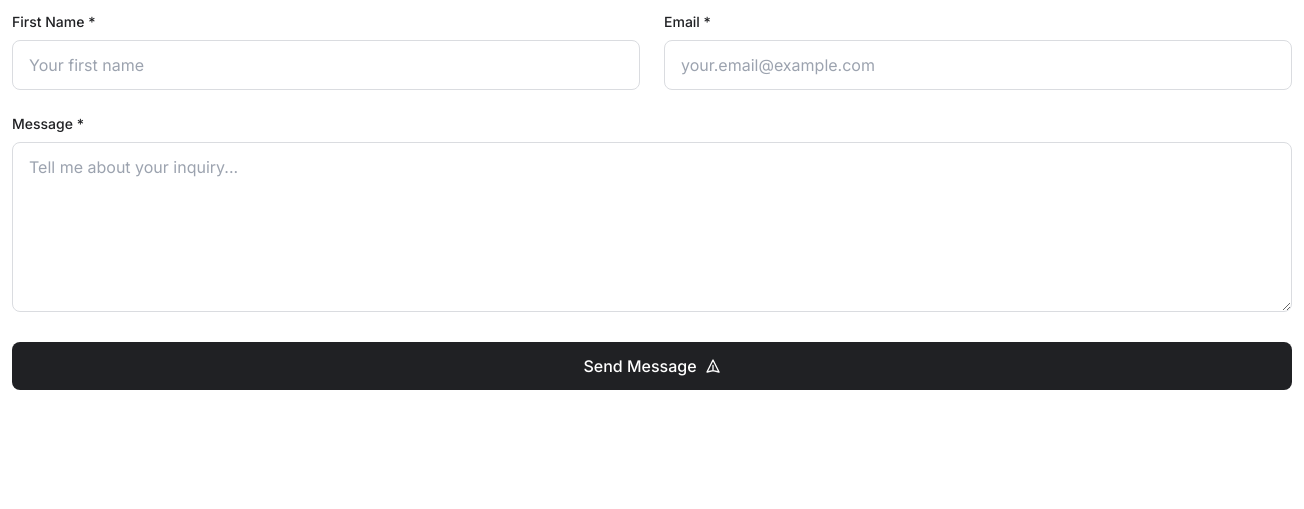
Test: ContactForm › Form Submission › submits form with valid data
The width and height of the screenshot is (1304, 509).
# Fill out form
In the field labelled "First Name *": point(326, 65) left=12, top=40, right=640, bottom=90, type "John"
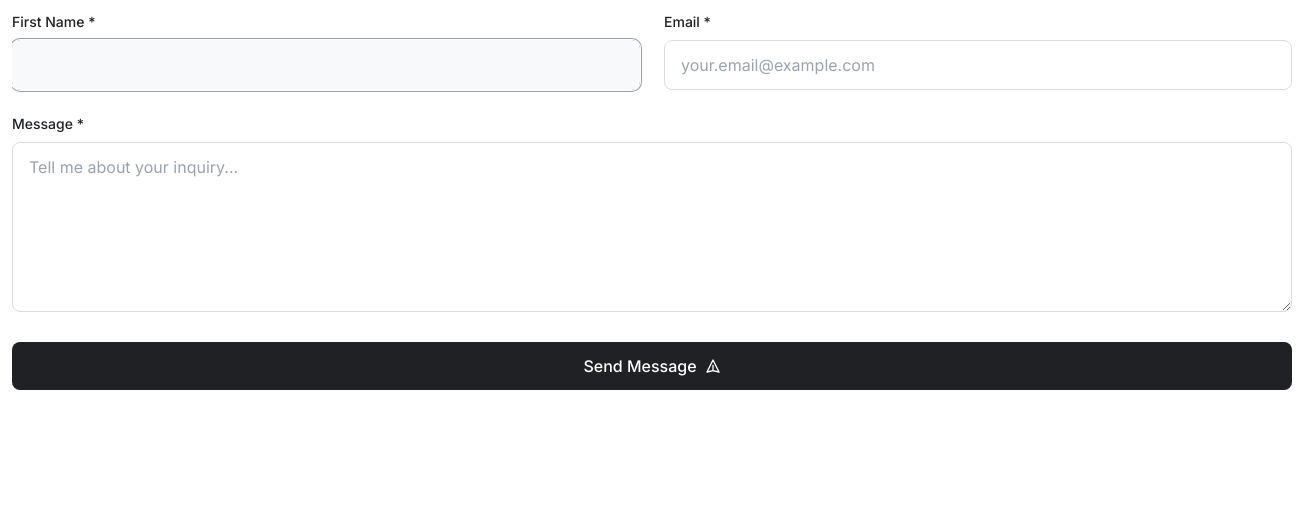
In the field labelled "Email *": point(978, 65) left=664, top=40, right=1292, bottom=90, type "john@example.com"
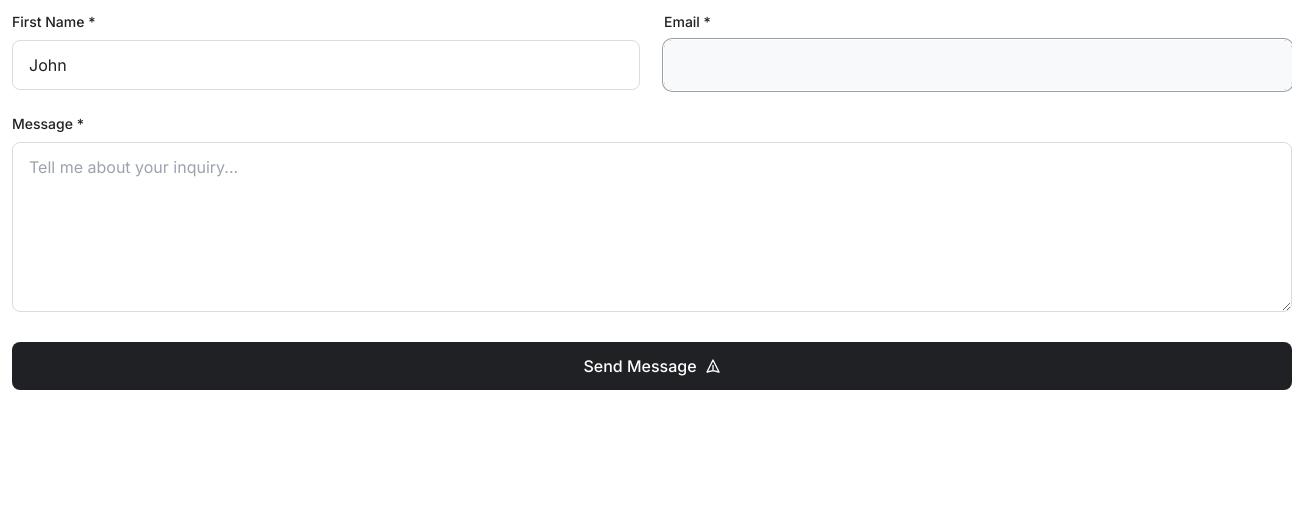
In the text box labelled "Message *": point(652, 227) left=12, top=142, right=1292, bottom=312, type "This is a test message with enough characters."
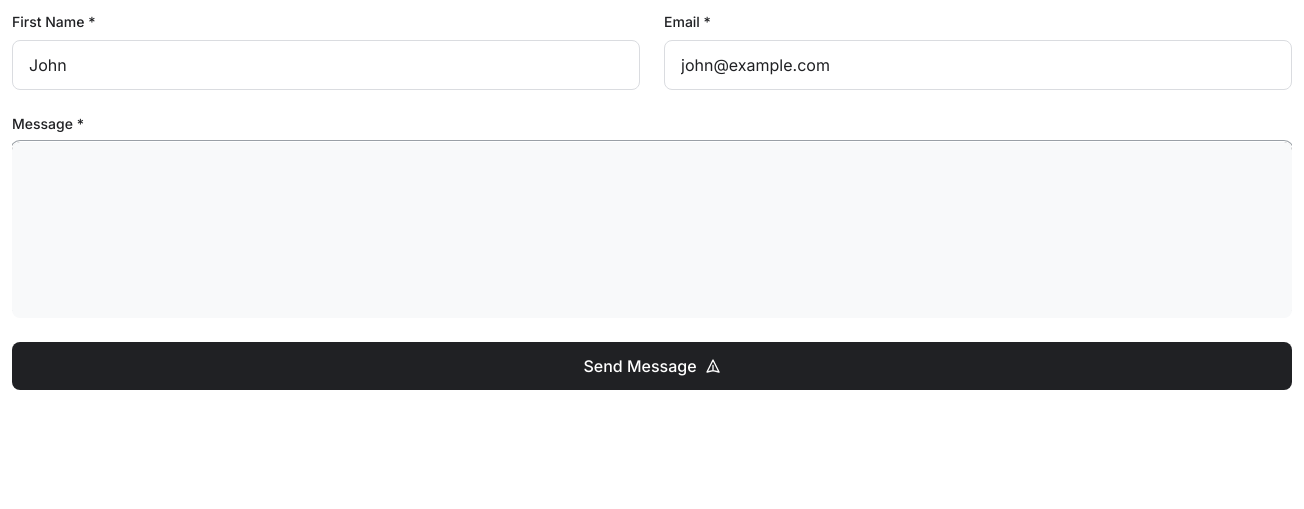
Click the button "Send Message": point(652, 366) left=12, top=342, right=1292, bottom=390
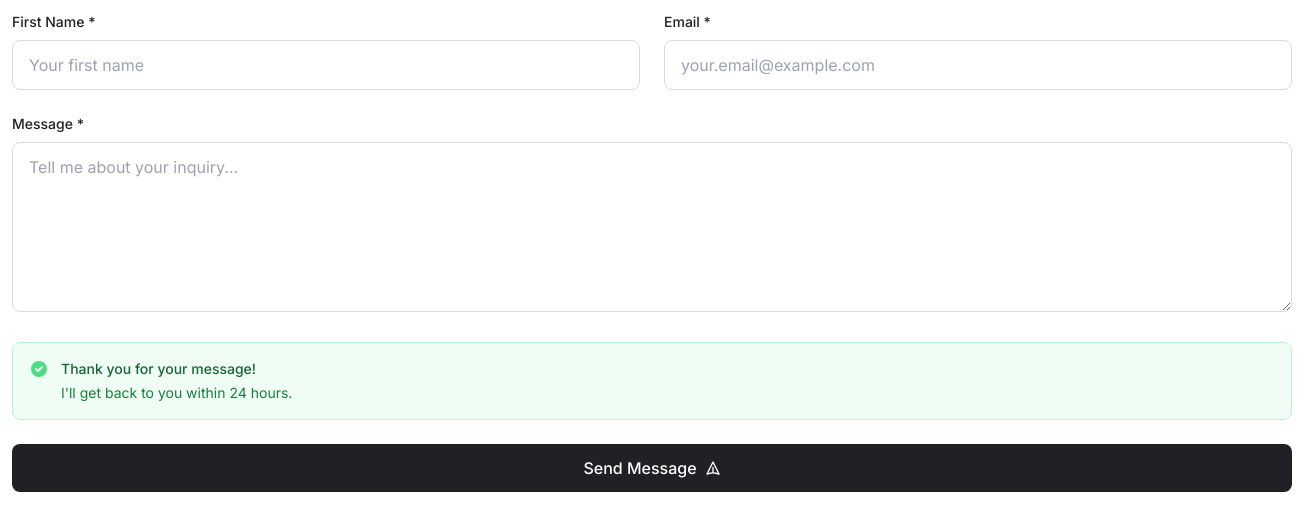
Expected: the text "Thank you for your message!" is shown, left=61, top=360, right=256, bottom=377
